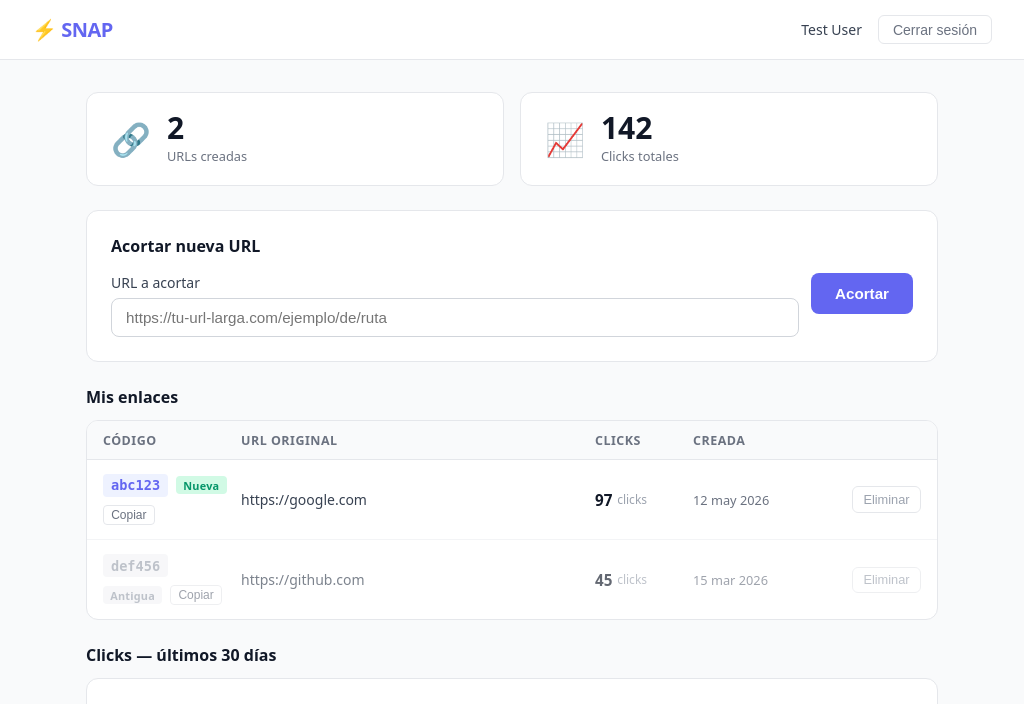
Scenario: UrlList — eliminar › primer clic pide confirmación, no elimina
Click the button "Eliminar" next to "12 may 2026": (886, 500) [852,486,921,513]
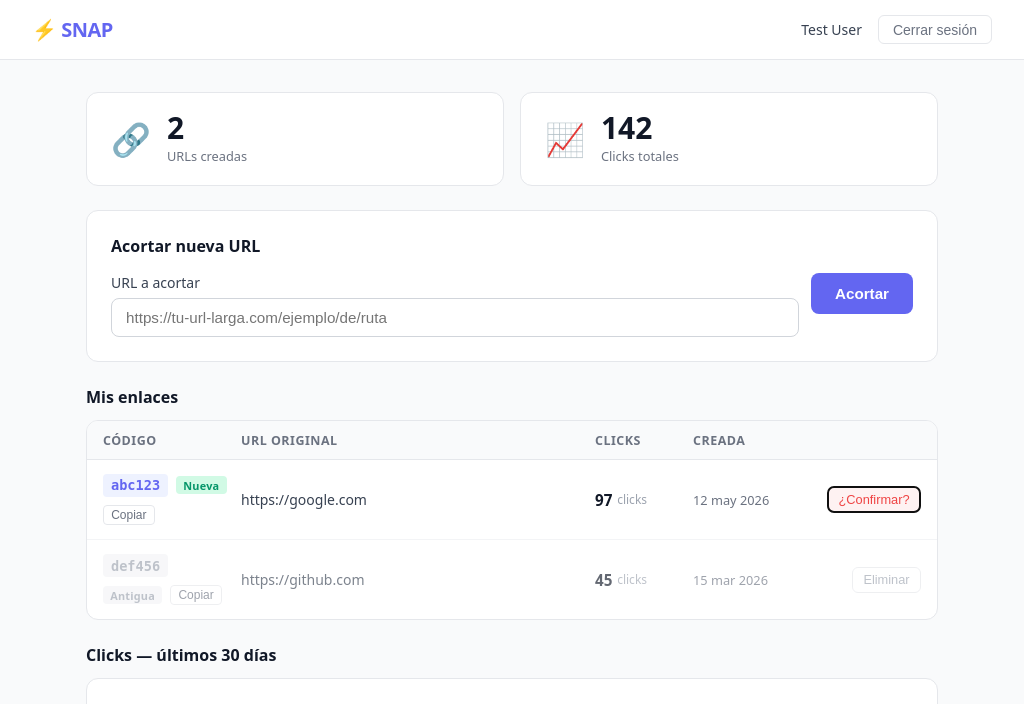
Expected: the button "¿Confirmar?" is shown, [827,486,921,513]
